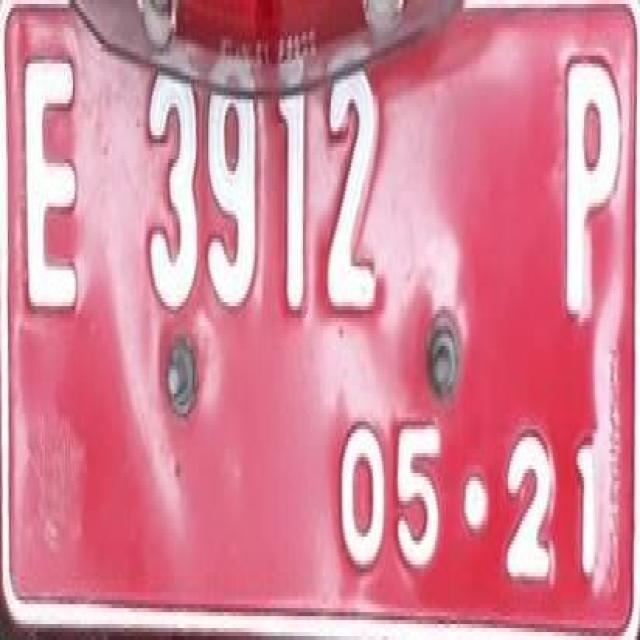1: (270, 61, 318, 322)
2: (322, 55, 390, 318)
3: (142, 62, 206, 315)
9: (205, 54, 272, 314)
E: (17, 36, 90, 334)
P: (561, 40, 626, 334)
